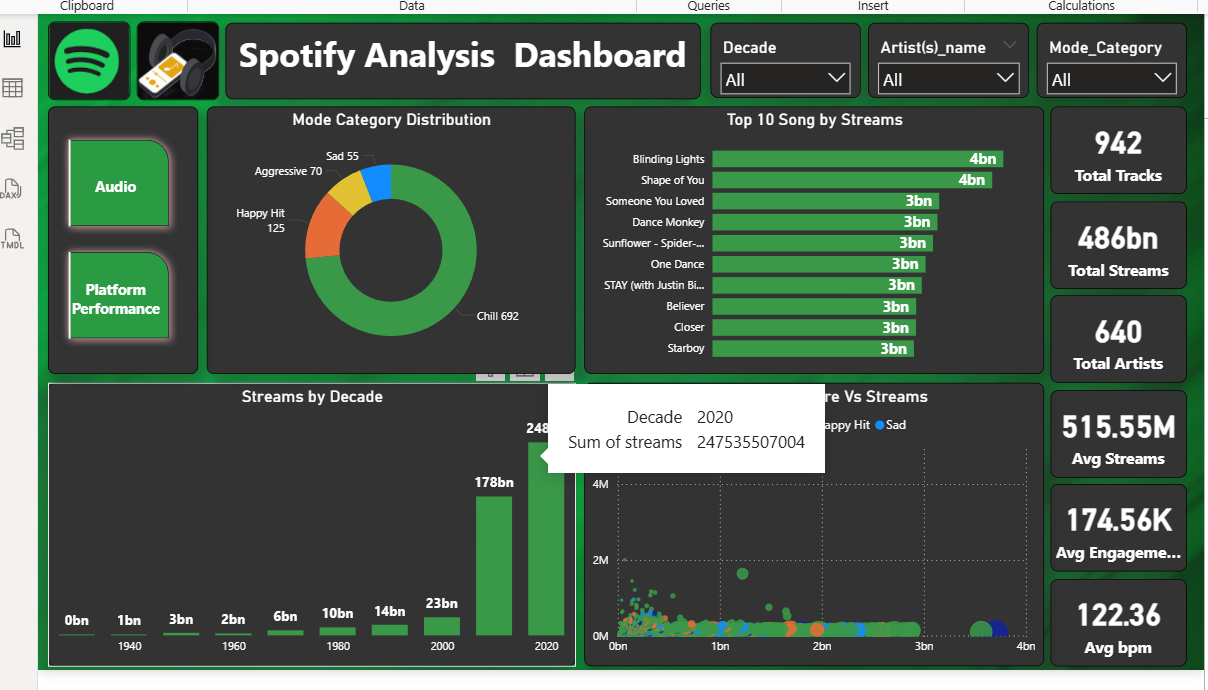

What the dashboard file says about the page in this screenshot:
{"tool":"powerbi","page":{"name":"Dashboard","canvas":[1280,720],"ordinal":0},"visuals":[{"type":"card","fields":{"Values":["Real_Time_Streaming_Analytics.Total Artists"]},"box":[1110.9,308.8,149.6,96],"z":0},{"type":"card","fields":{"Values":["Real_Time_Streaming_Analytics.Total Streams"]},"box":[1110.9,205.2,149.6,96],"z":1000},{"type":"card","fields":{"Values":["Real_Time_Streaming_Analytics.Total Tracks"]},"box":[1110.9,101.5,149.6,96],"z":2000},{"type":"card","fields":{"Values":["Real_Time_Streaming_Analytics.Avg bpm"]},"box":[1110.9,619.8,149.6,96],"z":3000},{"type":"card","fields":{"Values":["Real_Time_Streaming_Analytics.Avg Streams"]},"box":[1110.9,412.5,149.6,96.1],"z":4000},{"type":"card","fields":{"Values":["Real_Time_Streaming_Analytics.Avg Engagement"]},"box":[1110.9,516.2,149.6,96],"z":5000},{"type":"textbox","box":[205.8,9.6,521.4,83.7],"z":6000},{"type":"barChart","title":"Top 10 Song by Streams","fields":{"Category":["Real_Time_Streaming_Analytics.track_name"],"Y":["Sum(Real_Time_Streaming_Analytics.streams)"]},"box":[599.7,101.5,505,293.7],"z":7000},{"type":"columnChart","title":" Streams by Decade","fields":{"Category":["Real_Time_Streaming_Analytics.Decade"],"Y":["Sum(Real_Time_Streaming_Analytics.streams)"]},"box":[11,404.8,579.1,311.5],"z":8000},{"type":"donutChart","title":"  Mode Category Distribution","fields":{"Category":["Real_Time_Streaming_Analytics.Mode_Category"],"Y":["CountNonNull(Real_Time_Streaming_Analytics.track_name)"]},"box":[185.2,101.5,404.8,293.7],"z":9000},{"type":"scatterChart","title":"Engagement Score Vs Streams","fields":{"Size":["Sum(Real_Time_Streaming_Analytics.Total Playlist)"],"Series":["Real_Time_Streaming_Analytics.Mode_Category"],"Y":["Sum(Real_Time_Streaming_Analytics.Engagement_Score)"],"X":["Real_Time_Streaming_Analytics.streams"]},"box":[599.7,404.8,505,311.5],"z":10000},{"type":"slicer","fields":{"Values":["Real_Time_Streaming_Analytics.Decade"]},"box":[738.3,9.6,164.7,82.3],"z":11000},{"type":"slicer","fields":{"Values":["Real_Time_Streaming_Analytics.artist(s)_name"]},"box":[911.2,9.6,177,82.3],"z":12000},{"type":"slicer","fields":{"Values":["Real_Time_Streaming_Analytics.Mode_Category"]},"box":[1096.4,9.6,164.7,82.3],"z":13000},{"type":"image","box":[11,8.9,90.6,86.4],"z":14000},{"type":"image","box":[108.4,8.9,90.6,86.4],"z":15000},{"type":"textbox","box":[11,101.5,164.7,293.7],"z":16000},{"type":"pageNavigator","box":[24.7,129,129,237.4],"z":17000}]}

Visuals, with their boxes on the page's 1280x720 design canvas (x1, y1, x2, y2). These are canvas units, not pixel positions in the 1208x690 screenshot, which may show the page scaled, cropped or inside an application window:
card - Real_Time_Streaming_Analytics.Total Artists: Rect(1111, 309, 1260, 405)
card - Real_Time_Streaming_Analytics.Total Streams: Rect(1111, 205, 1260, 301)
card - Real_Time_Streaming_Analytics.Total Tracks: Rect(1111, 102, 1260, 198)
card - Real_Time_Streaming_Analytics.Avg bpm: Rect(1111, 620, 1260, 716)
card - Real_Time_Streaming_Analytics.Avg Streams: Rect(1111, 412, 1260, 509)
card - Real_Time_Streaming_Analytics.Avg Engagement: Rect(1111, 516, 1260, 612)
textbox: Rect(206, 10, 727, 93)
"Top 10 Song by Streams" barChart: Rect(600, 102, 1105, 395)
" Streams by Decade" columnChart: Rect(11, 405, 590, 716)
"  Mode Category Distribution" donutChart: Rect(185, 102, 590, 395)
"Engagement Score Vs Streams" scatterChart: Rect(600, 405, 1105, 716)
slicer - Real_Time_Streaming_Analytics.Decade: Rect(738, 10, 903, 92)
slicer - Real_Time_Streaming_Analytics.artist(s)_name: Rect(911, 10, 1088, 92)
slicer - Real_Time_Streaming_Analytics.Mode_Category: Rect(1096, 10, 1261, 92)
image: Rect(11, 9, 102, 95)
image: Rect(108, 9, 199, 95)
textbox: Rect(11, 102, 176, 395)
pageNavigator: Rect(25, 129, 154, 366)
